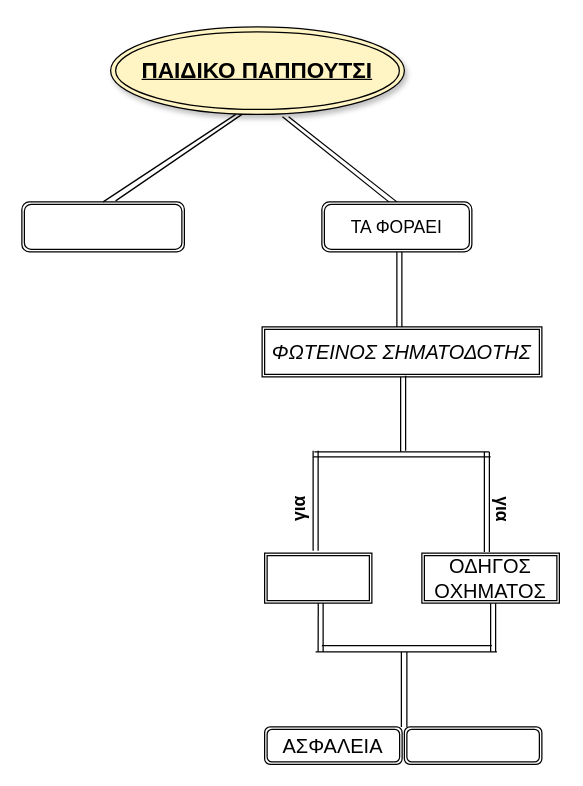
Some shapes in this 583 by 786 pixel diagram are drawn without their labels. Here are the shapes that lost their labels. From the top down, the centre of each, then its label:
At pixel 102 226: "ΔΕΝ ΤΑ ΦΟΡΑΕΙ".
At pixel 317 577: "ΠΑΙΔΙ".
At pixel 472 745: "ΠΡΟΣΤΑΣΙΑ".
